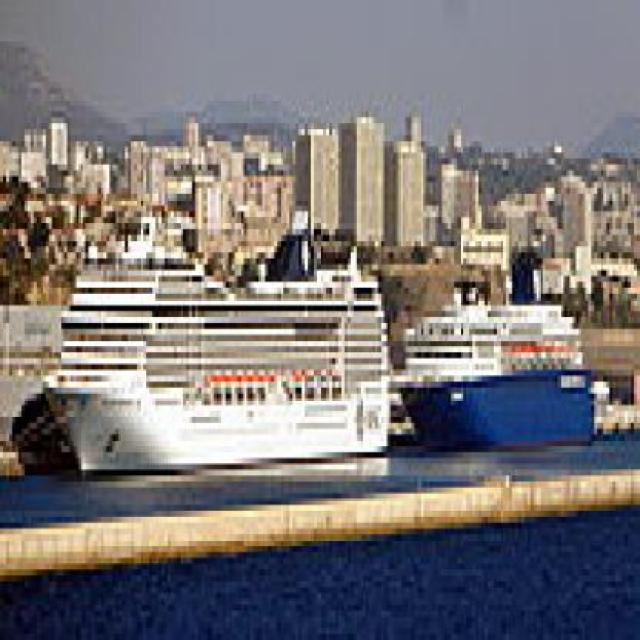cruise: (43, 230, 397, 477), (389, 248, 607, 471)
